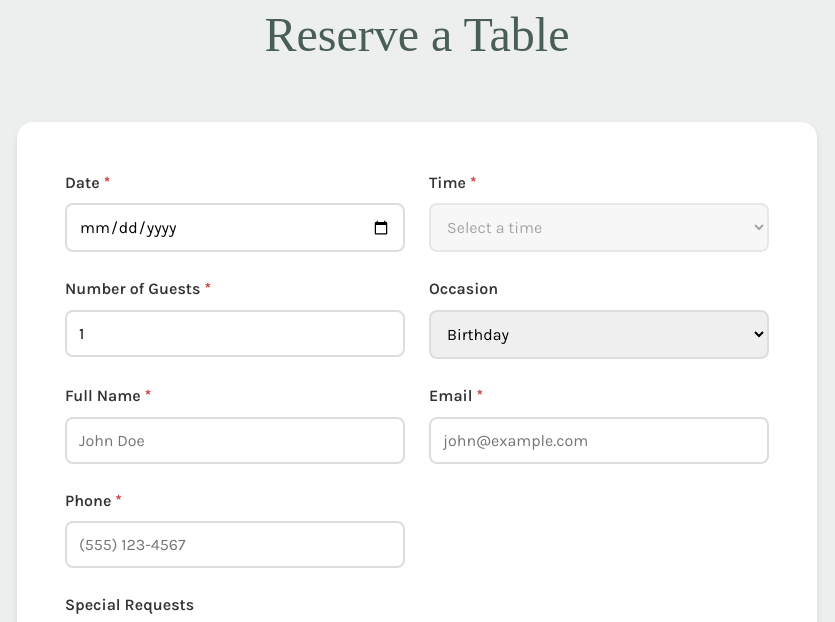
BookingForm Component › Form Validation › shows error when name is too short
The width and height of the screenshot is (835, 622).
In the field labelled "Full Name *": coordinates (235, 440) [65,417,405,464], type "A"
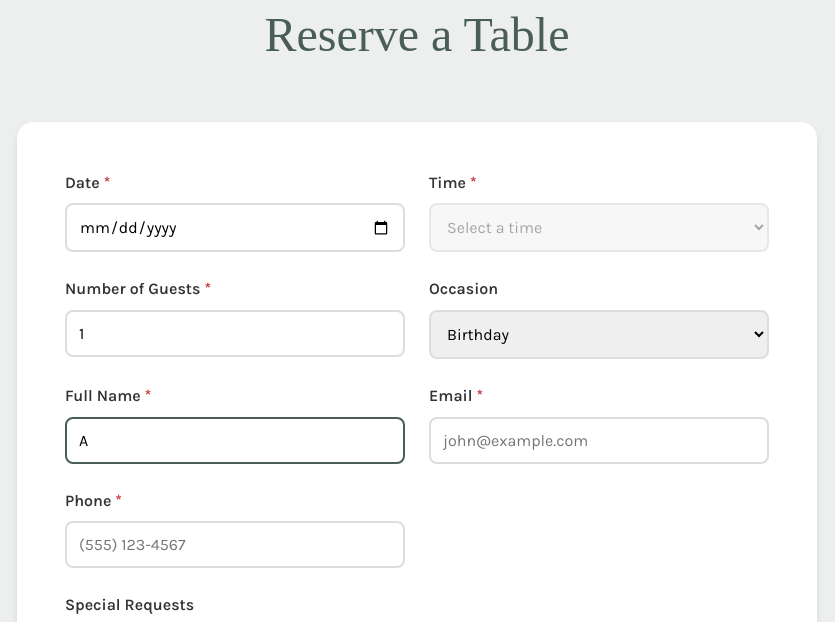
Leave the field labelled "Full Name *", box [65,417,405,464]
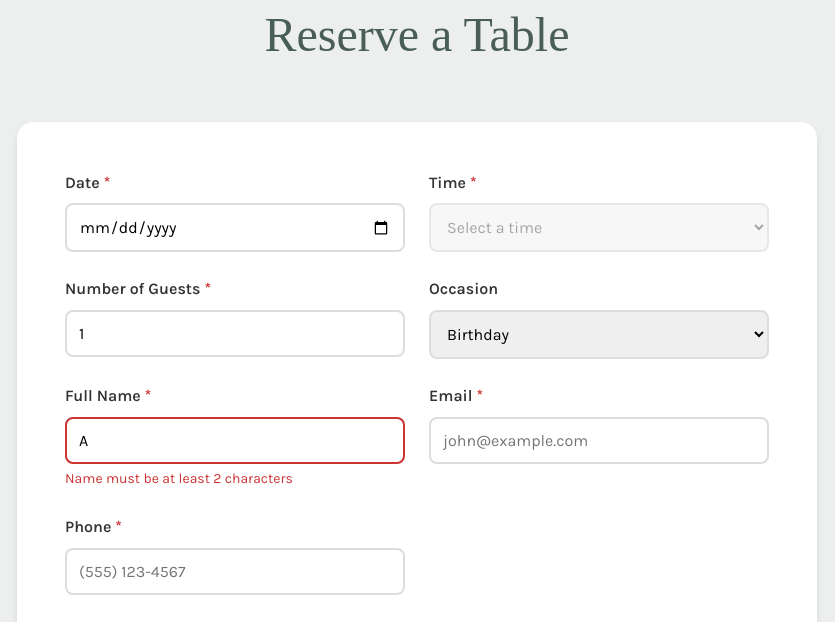
Expected: the text "Name must be at least 2 characters" is shown, [65,470,293,487]
